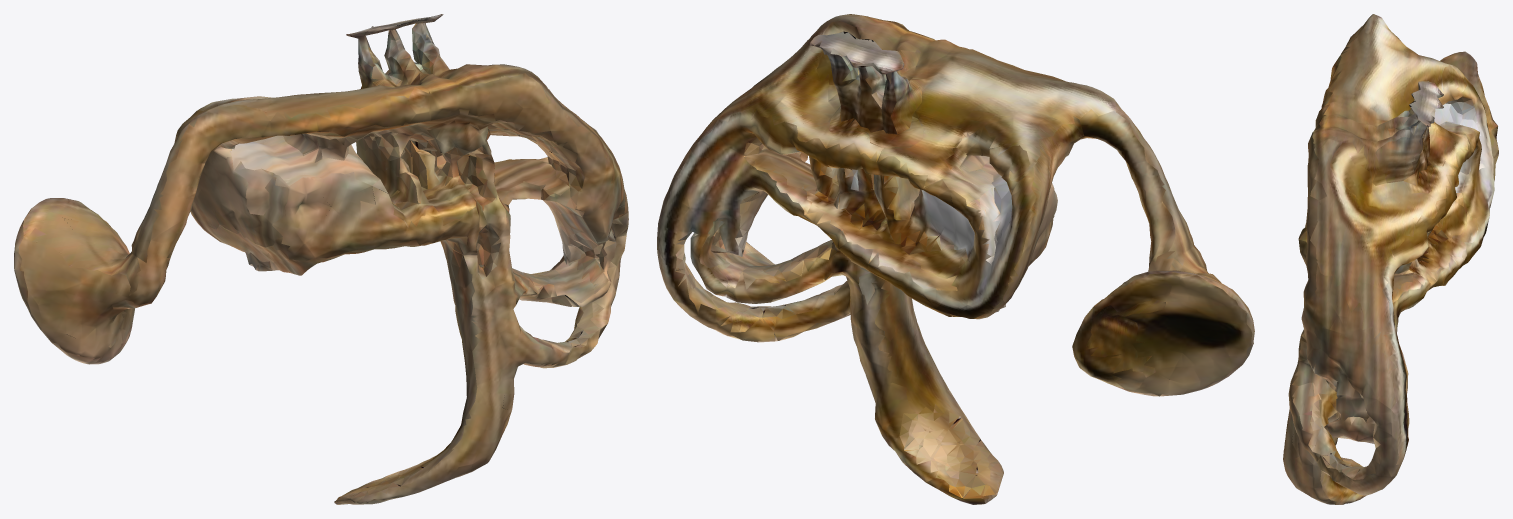
File: 13_22_44_21_a-single-brass-instrument.glb
3 views of the same model, side by side, from view 1: azimuth 30°, elevation 25°; view 2: azimuth 150°, elevation 25°; view 3: azimuth 270°, elevation 25° (orthographic). The views are drawn at different scales.
Visible parts, largest first — view 1: world; view 2: world; view 3: world.
Part boxes in pixels (x1,y1,x2,y2): world: [14, 14, 628, 504]; world: [657, 14, 1254, 504]; world: [1283, 14, 1498, 504].
Bounding box in the file's own units: 0.9336 × 0.6746 × 0.3115.
1 material, 1 textured.
